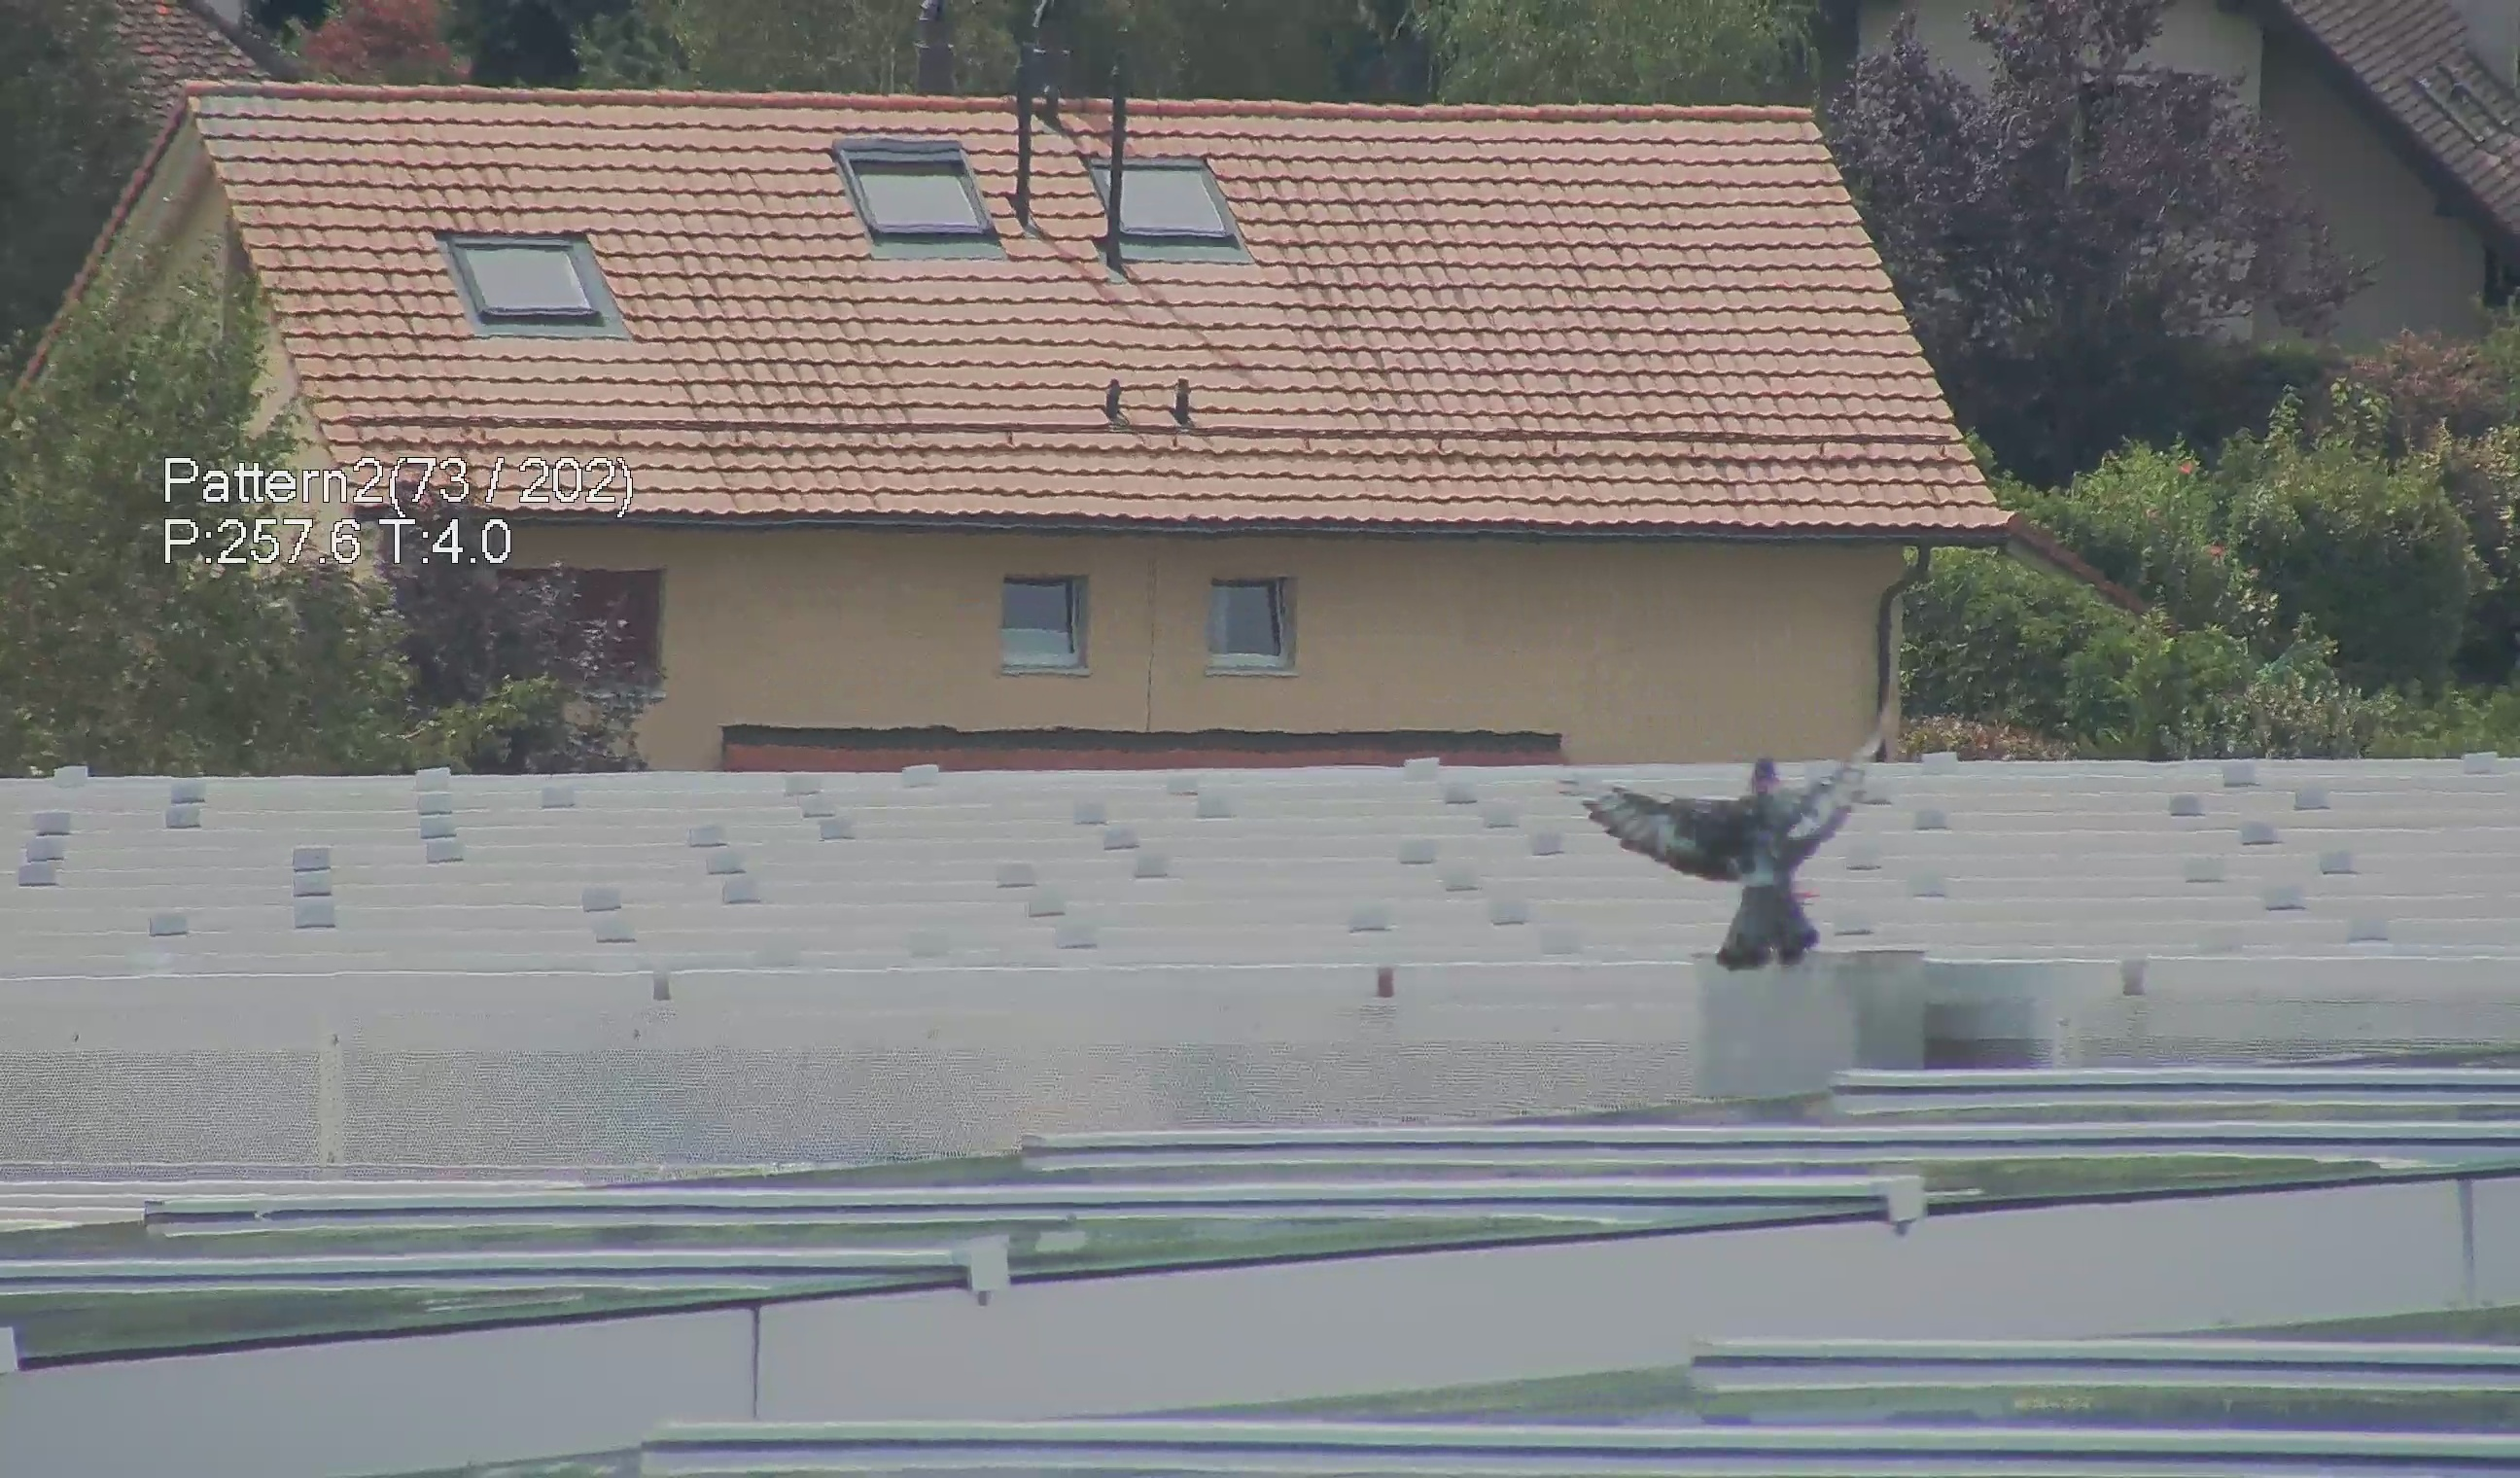Pigeon: (1595, 735, 1894, 948), (1590, 758, 1859, 901)
